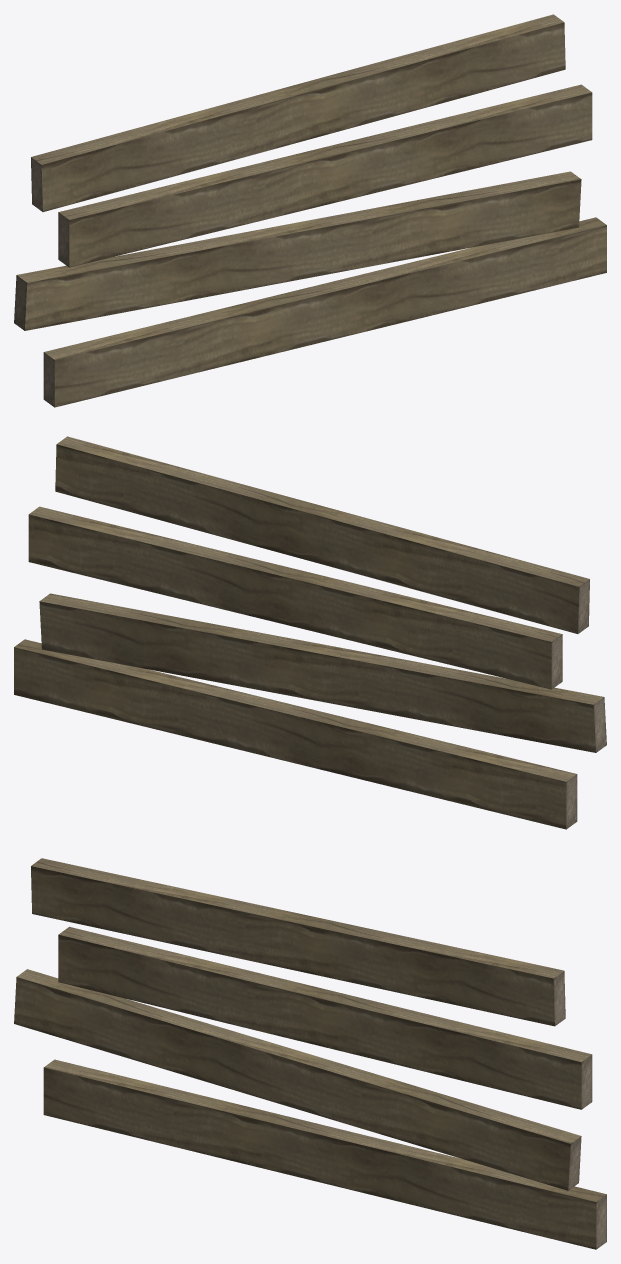
File: Planks_Path_A.fbx
The picture shows the model from 3 angles, top to bottom: view 1: azimuth 30°, elevation 25°; view 2: azimuth 150°, elevation 25°; view 3: azimuth 330°, elevation 25°; orthographic projection.
Visible parts, largest first — view 1: Planks_Path_A; view 2: Planks_Path_A; view 3: Planks_Path_A.
Boxes of the visible parts, left/top/right/bottom form: Planks_Path_A: left=14, top=14, right=606, bottom=407; Planks_Path_A: left=14, top=436, right=606, bottom=829; Planks_Path_A: left=14, top=858, right=606, bottom=1249.
Size of the model in its own units: 3.63 by 1.56 by 0.1167.
